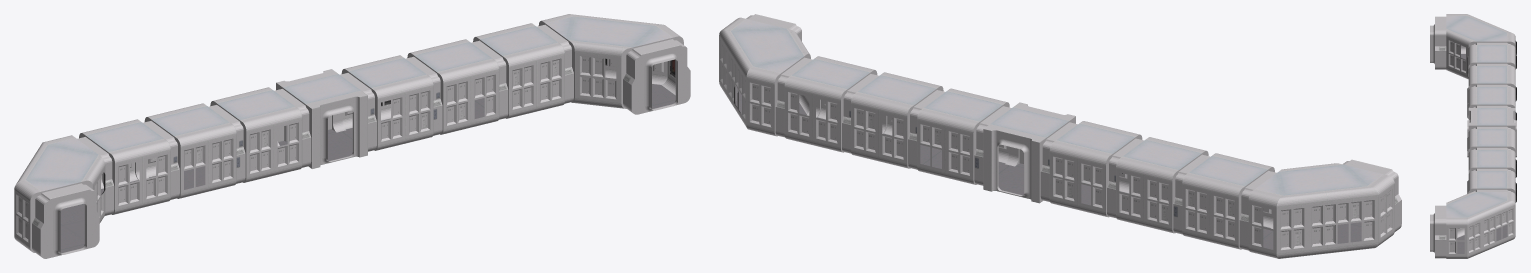
The model's file is thm_spc_corvette_dungeon_r53_hall53_mesh_r53.fbx.
The picture shows the model from 3 angles, left to right: view 1: azimuth 30°, elevation 25°; view 2: azimuth 150°, elevation 25°; view 3: azimuth 270°, elevation 25°; orthographic projection. The views are drawn at different scales.
Visible parts, largest first — view 1: mesh_node; view 2: mesh_node; view 3: mesh_node.
Boxes of the visible parts, x1=… form: mesh_node: x1=14, y1=14, x2=690, y2=258; mesh_node: x1=719, y1=14, x2=1401, y2=258; mesh_node: x1=1430, y1=14, x2=1516, y2=258.
Bounding box in the file's own units: 39.9 × 3.5 × 7.
